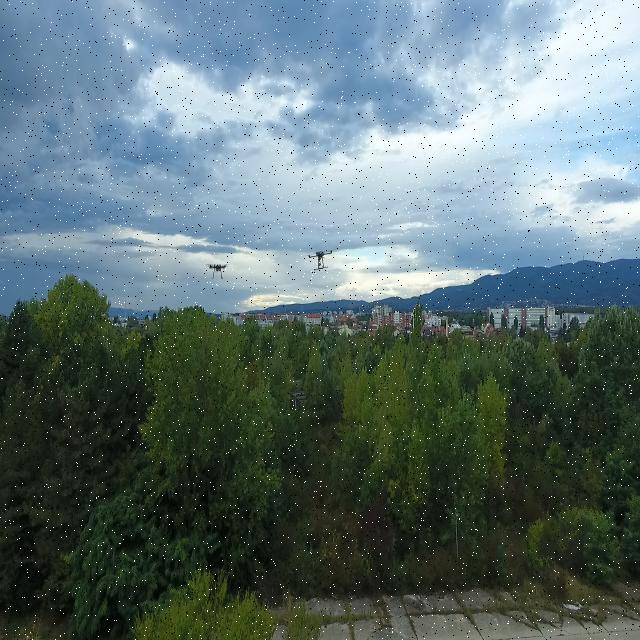UAV: (182, 247, 252, 287), (298, 244, 345, 274)
